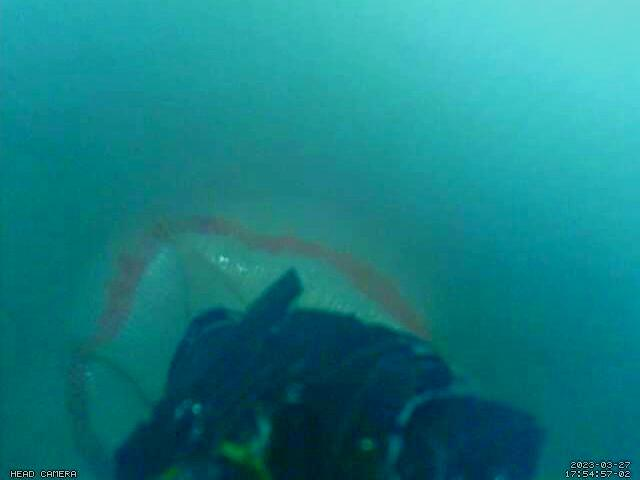head: (68, 215, 432, 480)
